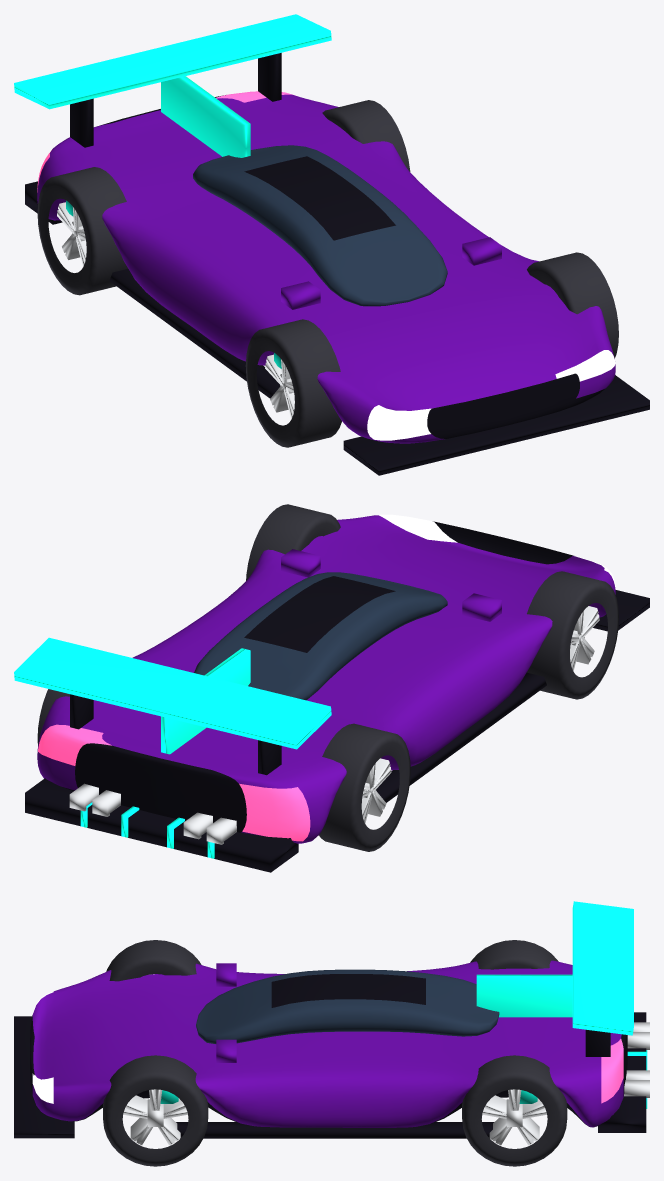
Rendered from toofan_x.glb.
3 renders of one model, top to bottom at view 1: azimuth 30°, elevation 25°; view 2: azimuth 150°, elevation 25°; view 3: azimuth 270°, elevation 25°, orthographic. The views are drawn at different scales.
Parts seen in each view (by area): view 1: Chassis, Wheel_FR, Wheel_RR, Wheel_FL, Wheel_RL; view 2: Chassis, Wheel_FR, Wheel_RR, Wheel_FL; view 3: Chassis, Wheel_FL, Wheel_RL, Wheel_FR, Wheel_RR.
Boxes of the visible parts, bbox=[...] form: Chassis: bbox=[14, 14, 649, 475]; Wheel_FR: bbox=[245, 319, 341, 447]; Wheel_RR: bbox=[37, 167, 127, 295]; Wheel_FL: bbox=[527, 252, 618, 358]; Wheel_RL: bbox=[322, 100, 410, 171]; Chassis: bbox=[14, 514, 649, 872]; Wheel_FR: bbox=[527, 571, 618, 699]; Wheel_RR: bbox=[319, 723, 410, 851]; Wheel_FL: bbox=[246, 504, 340, 580]; Chassis: bbox=[14, 901, 649, 1138]; Wheel_FL: bbox=[103, 1055, 208, 1166]; Wheel_RL: bbox=[462, 1055, 567, 1166]; Wheel_FR: bbox=[106, 940, 201, 981]; Wheel_RR: bbox=[470, 940, 558, 969].
Size of the model in its own units: 2.5 by 1.22 by 5.03.
